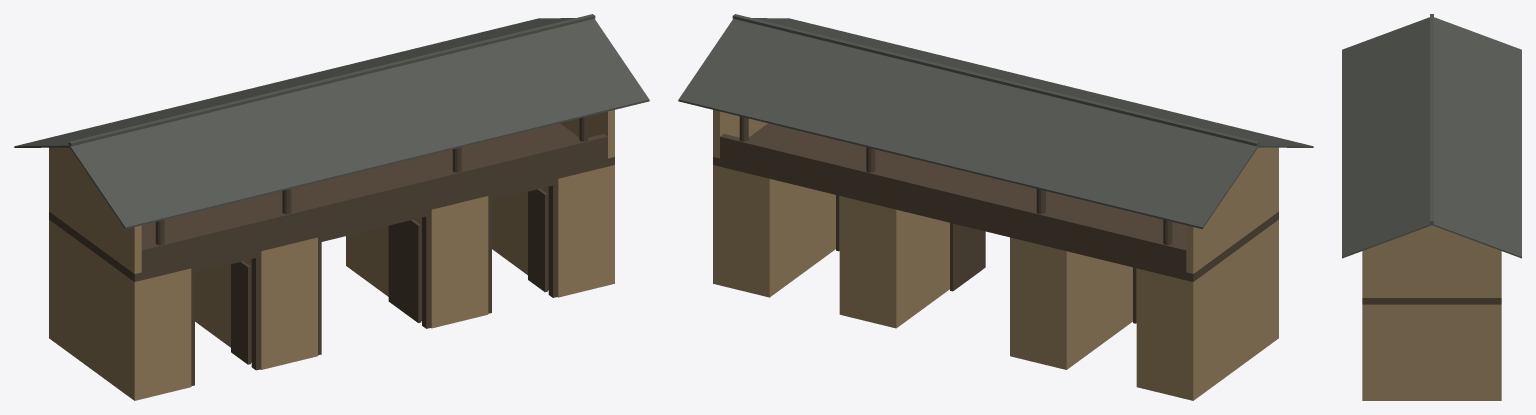
The picture shows the model from 3 angles, left to right: view 1: azimuth 30°, elevation 25°; view 2: azimuth 150°, elevation 25°; view 3: azimuth 270°, elevation 25°; orthographic projection. The views are drawn at different scales.
Visible parts, largest first — view 1: gu-G-static_tile, gu-G-static_earth, gu-G-static_timber; view 2: gu-G-static_earth, gu-G-static_tile, gu-G-static_timber; view 3: gu-G-static_tile, gu-G-static_earth, gu-G-static_timber.
Boxes of the visible parts, x1,y1,x2,y2 form: gu-G-static_tile: [14, 14, 649, 229]; gu-G-static_earth: [49, 110, 614, 400]; gu-G-static_timber: [49, 116, 614, 386]; gu-G-static_earth: [713, 110, 1278, 400]; gu-G-static_tile: [678, 14, 1313, 229]; gu-G-static_timber: [713, 116, 1278, 323]; gu-G-static_tile: [1342, 14, 1521, 258]; gu-G-static_earth: [1362, 225, 1501, 400]; gu-G-static_timber: [1362, 298, 1501, 304].
Size of the model in its own units: 24 by 10.16 by 8.8.
